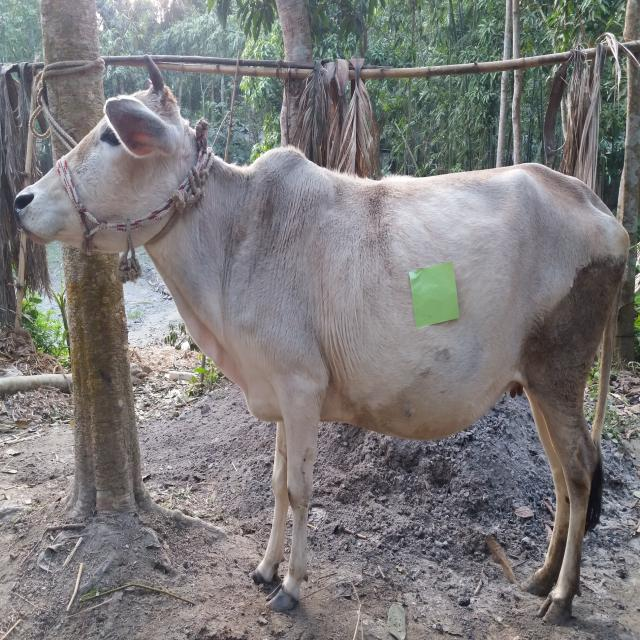badan_sapi: (253, 156, 626, 440)
sapi: (6, 49, 636, 628)
